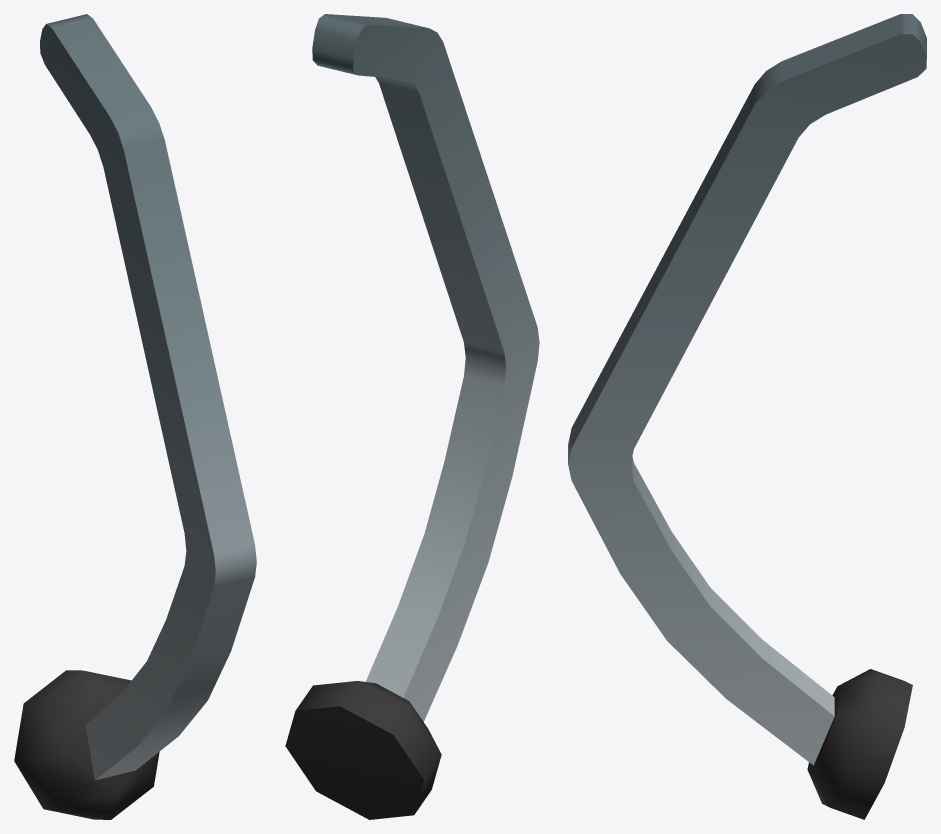
File: Claw_01.fbx
The picture shows the model from 3 angles, left to right: view 1: azimuth 30°, elevation 25°; view 2: azimuth 150°, elevation 25°; view 3: azimuth 270°, elevation 25°; orthographic projection. The views are drawn at different scales.
Visible parts, largest first — view 1: Claw_01; view 2: Claw_01; view 3: Claw_01.
Part boxes in pixels (x1,y1,x2,y2): Claw_01: (14, 14, 256, 819); Claw_01: (285, 14, 539, 819); Claw_01: (568, 14, 926, 819).
Bounding box in the file's own units: 3.48 × 8.05 × 19.6.
